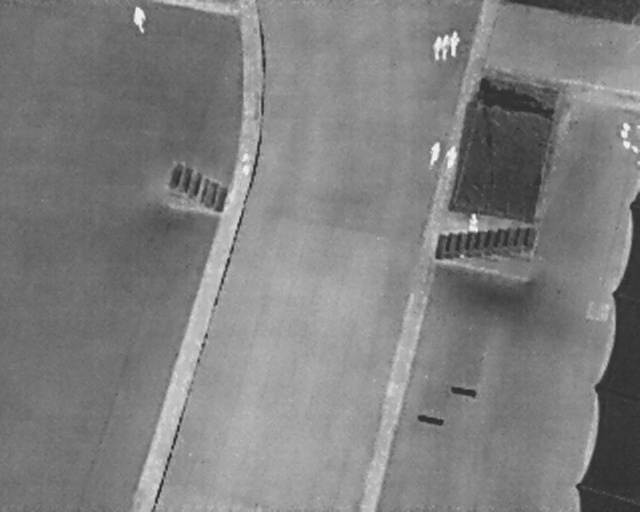Person: (129, 3, 150, 35), (425, 137, 443, 170), (442, 141, 459, 171), (239, 150, 254, 177), (448, 29, 460, 58), (440, 34, 451, 61), (432, 34, 442, 60), (469, 211, 480, 233)
